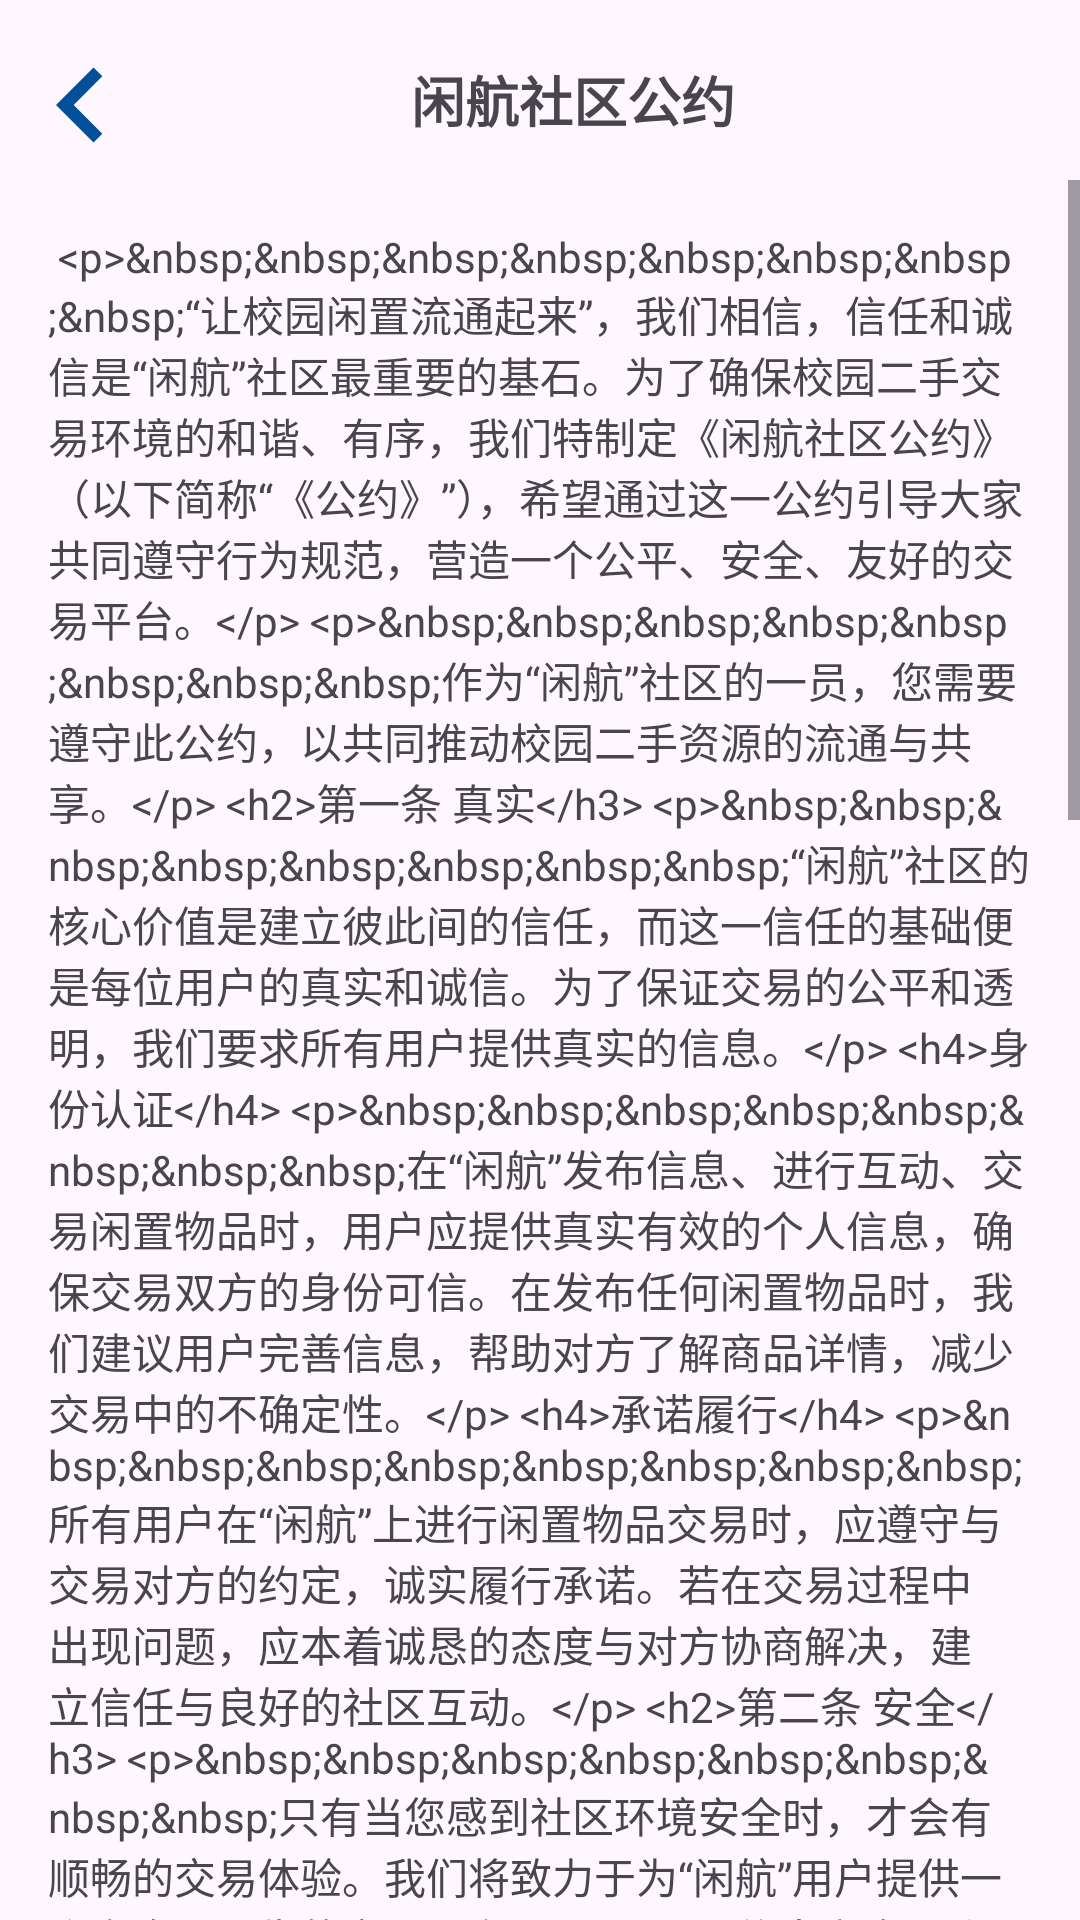

Icon click points for this 1080px×1920px phone screenshot, format point (x, y):
chevron left: point (79, 105)
